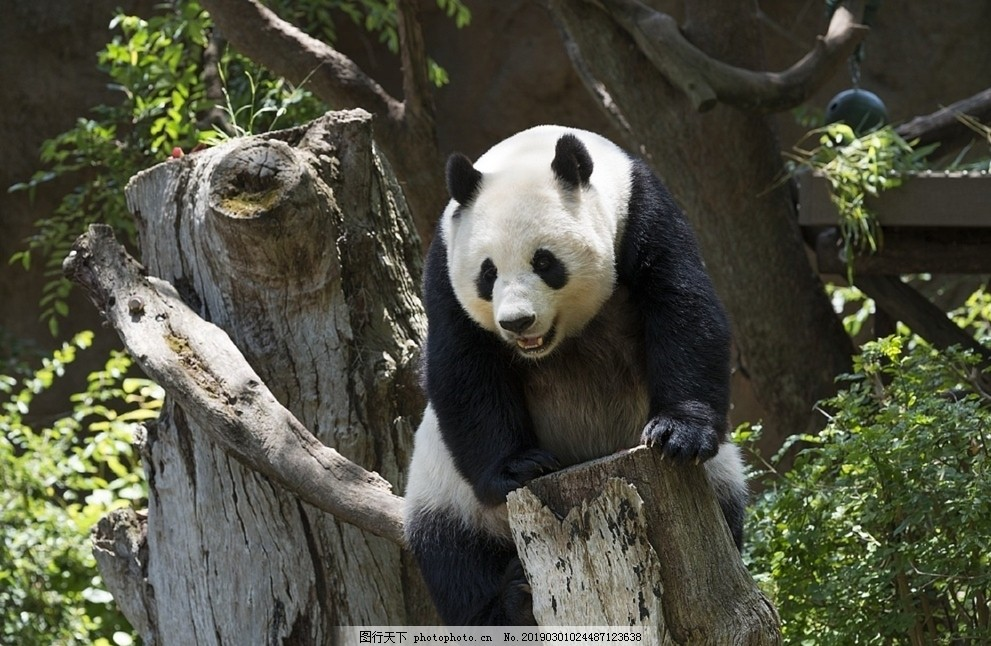panda: (357, 97, 776, 564)
